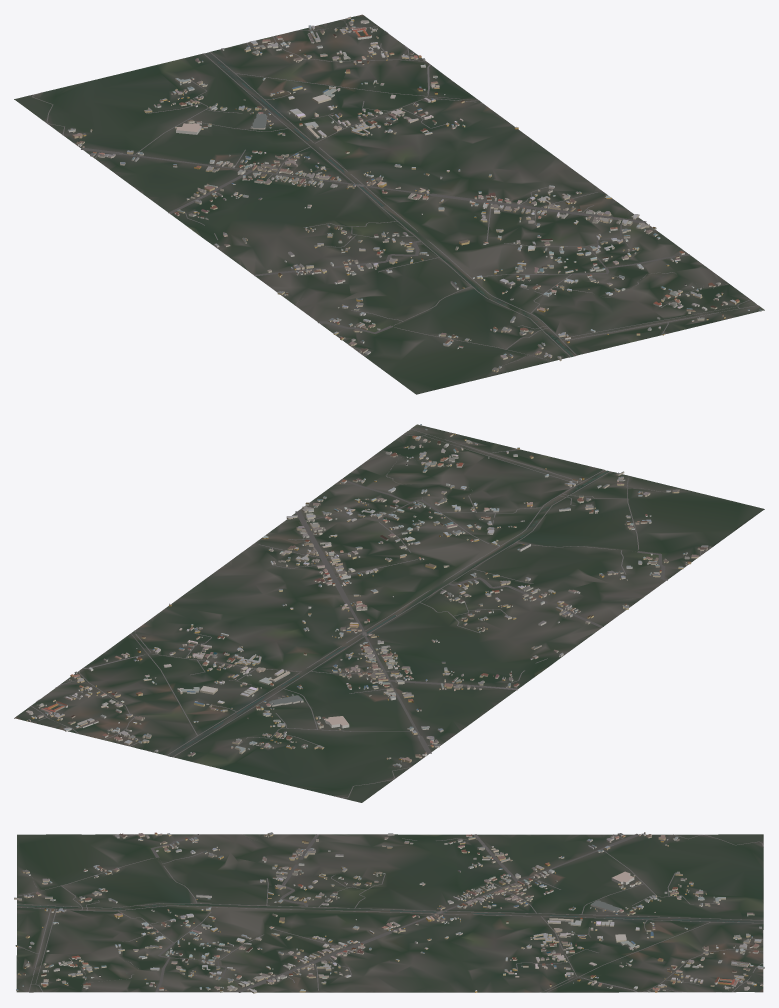
3 views of the same model, one above another, from view 1: azimuth 30°, elevation 25°; view 2: azimuth 150°, elevation 25°; view 3: azimuth 270°, elevation 25° (orthographic). The views are drawn at different scales.
Visible parts, largest first — view 1: ground, buildings, roads; view 2: ground, buildings, roads; view 3: ground, buildings, roads, water.
Part boxes in pixels (bbox=[...]): ground: bbox=[14, 14, 764, 394]; buildings: bbox=[67, 16, 761, 372]; roads: bbox=[32, 21, 758, 365]; ground: bbox=[14, 424, 764, 802]; buildings: bbox=[25, 424, 708, 767]; roads: bbox=[30, 429, 710, 797]; ground: bbox=[16, 834, 763, 992]; buildings: bbox=[14, 832, 764, 993]; roads: bbox=[17, 833, 763, 992]; water: bbox=[17, 904, 739, 973].
Bounding box in the file's own units: 1414 × 16.34 × 2817.
